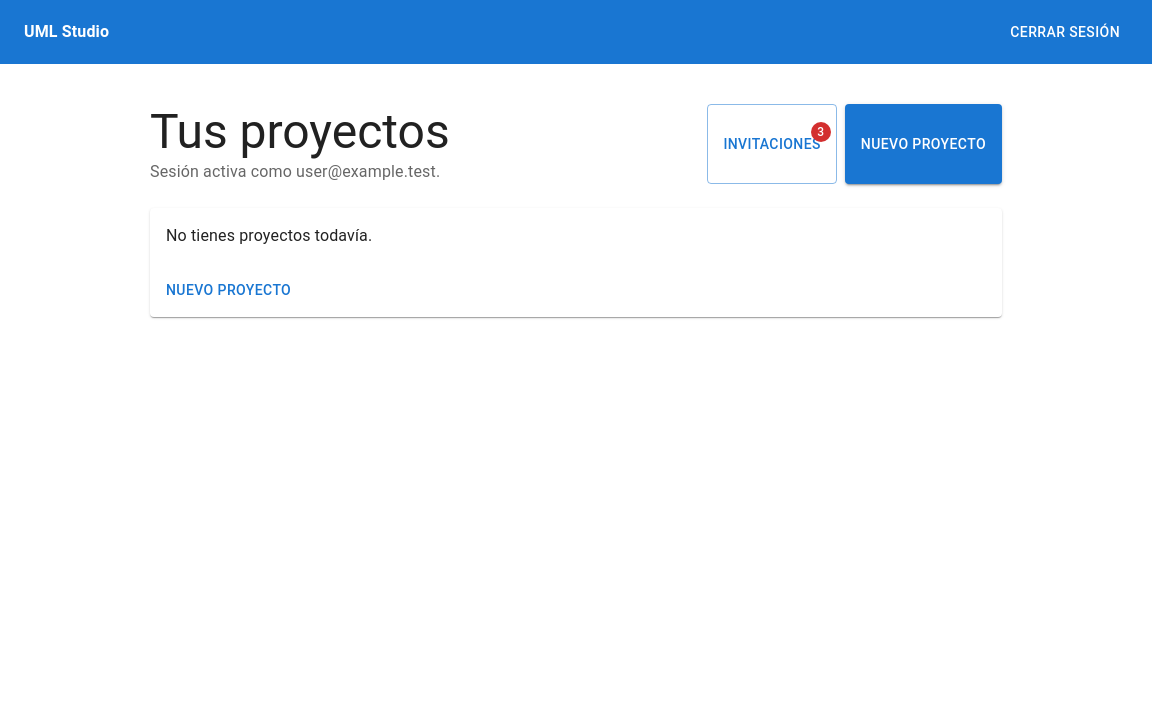
it: gestión de proyectos › muestra el badge y contenido de tres invitaciones
Expected: the text "3" is shown, left=811, top=122, right=831, bottom=142
Click the button "Invitaciones 3".
click(772, 144)  # box left=707, top=104, right=837, bottom=184
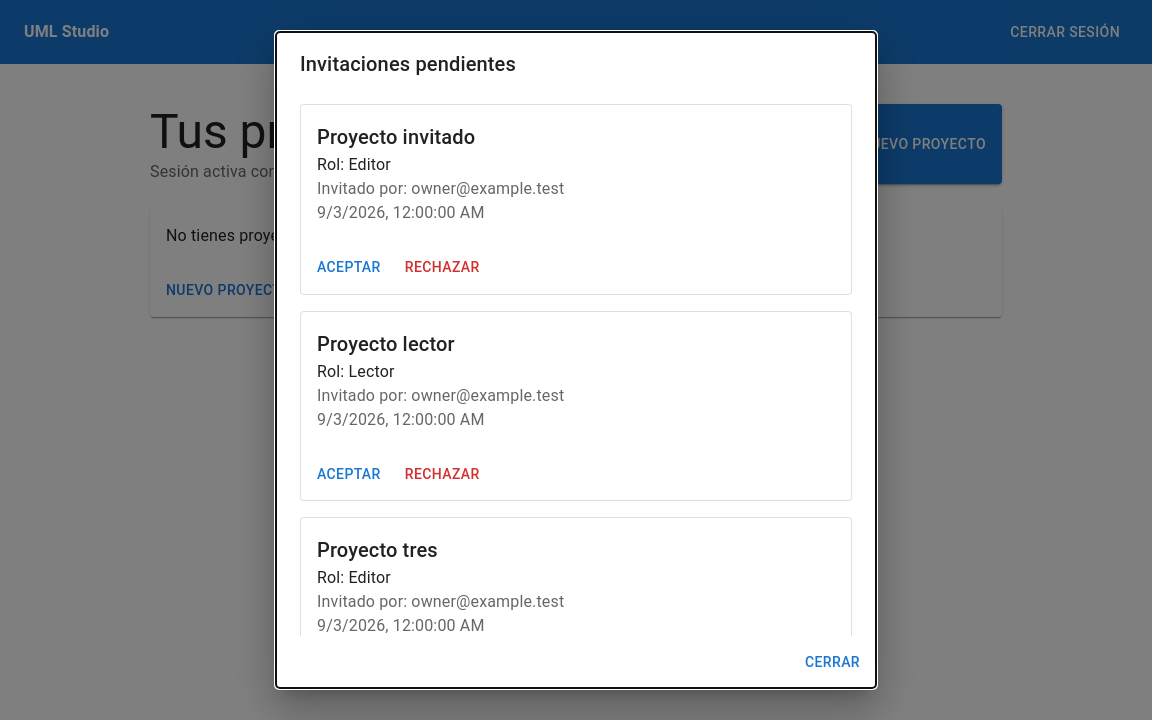
Result: the heading "Proyecto lector" is shown at left=317, top=332, right=455, bottom=356
Result: the text "Rol: Lector" is shown at left=317, top=362, right=394, bottom=380
Result: the text "Invitado por: owner@example.test" is shown 3 times at left=317, top=179, right=564, bottom=198; left=317, top=386, right=564, bottom=404; left=317, top=592, right=564, bottom=611
